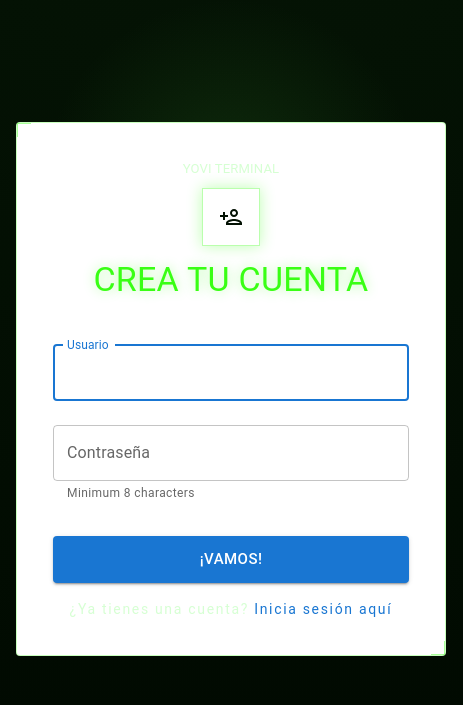
it: RegisterForm › shows API error message on non-ok responses
The image size is (463, 705).
In the field labelled "Usuario": (231, 373) [53,345,409,401], type "Pablo"
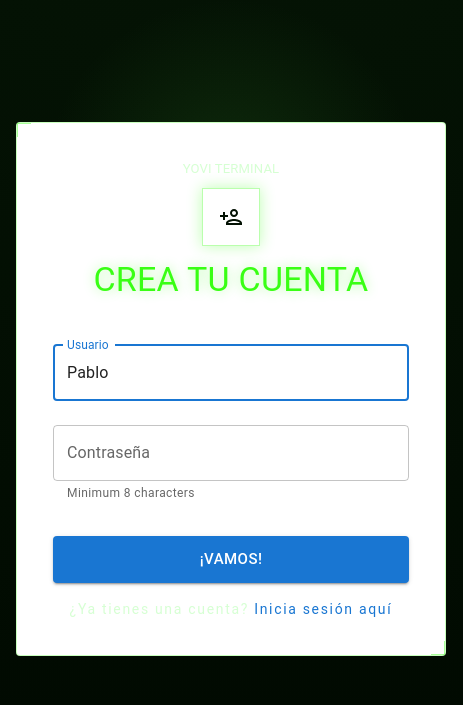
In the password field labelled "Contraseña": (231, 453) [53,425,409,481], type "password123"
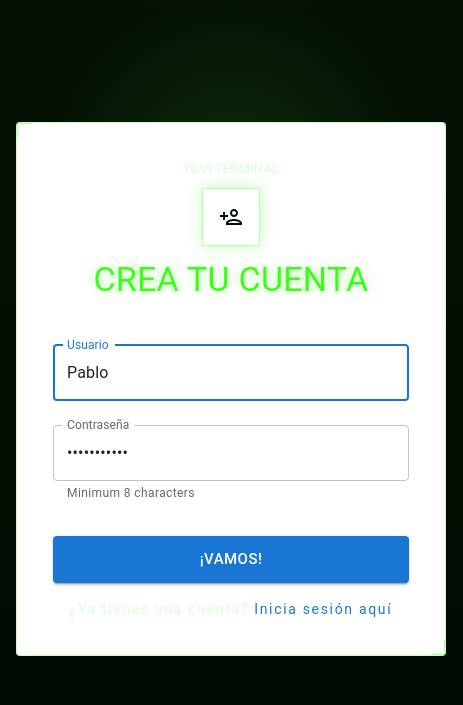
Click the button "¡Vamos!": (231, 559) [53,536,409,583]
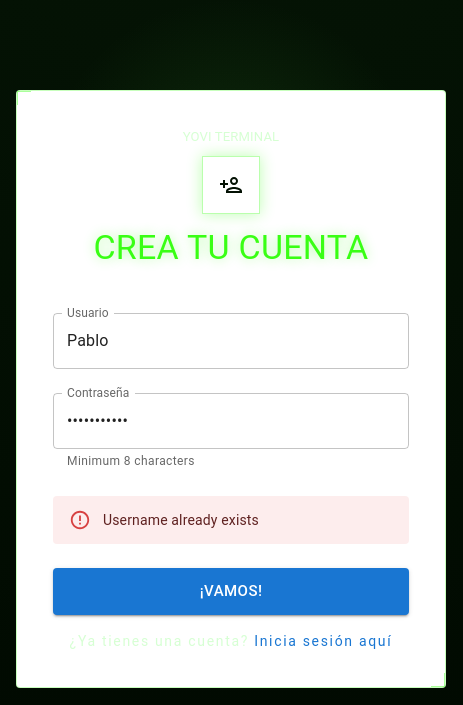
Expected: the text "Username already exists" is shown, [103,512,259,528]
